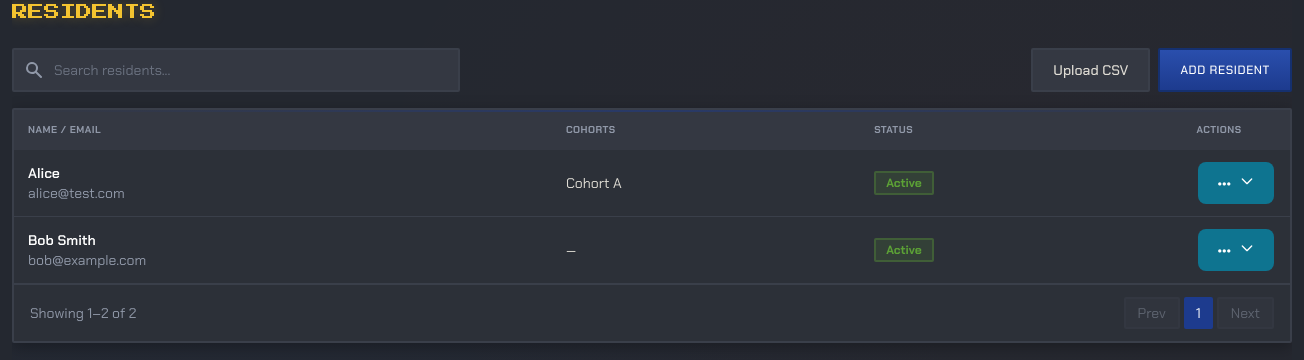
Test case: ResidentsPage › filters residents by search input
This screenshot has width=1304, height=360.
Expected: the link "Alice" is shown, x1=28 y1=164 x2=60 y2=182
In the field with placeholder "Search residents...": (236, 70) x1=12 y1=48 x2=460 y2=92, type "bob"
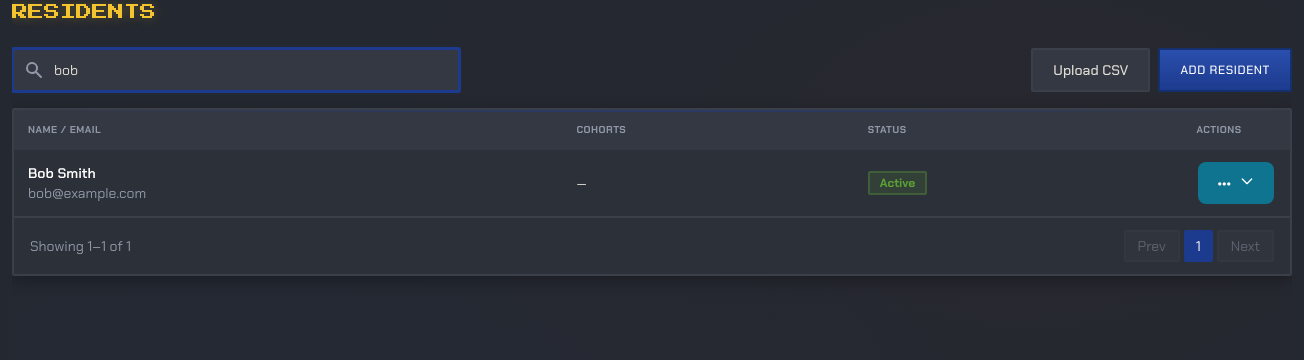
Expected: the link "Bob Smith" is shown, x1=28 y1=164 x2=96 y2=182
Now the link "Alice" is gone
